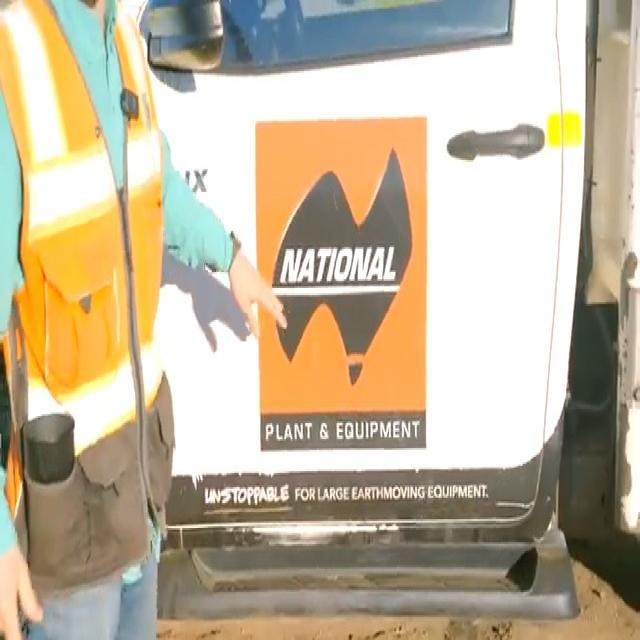safety_jacket: (0, 9, 162, 437)
